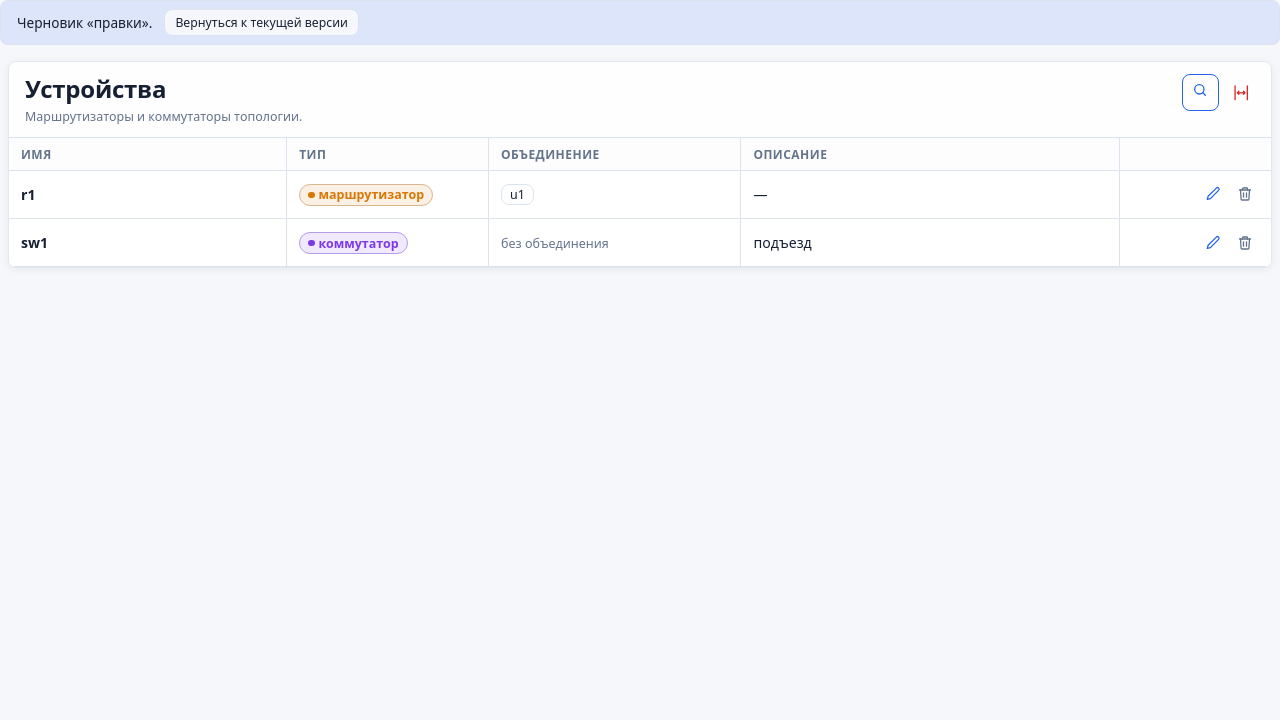
Scenario: DevicesPage › saves a rename as a single operation when the union is unchanged
The width and height of the screenshot is (1280, 720).
Expected: the text "r1" is shown, [9,170,287,218]
Click the button titled "Изменить устройство r1" at (1213, 194), box [1199,180,1227,208]
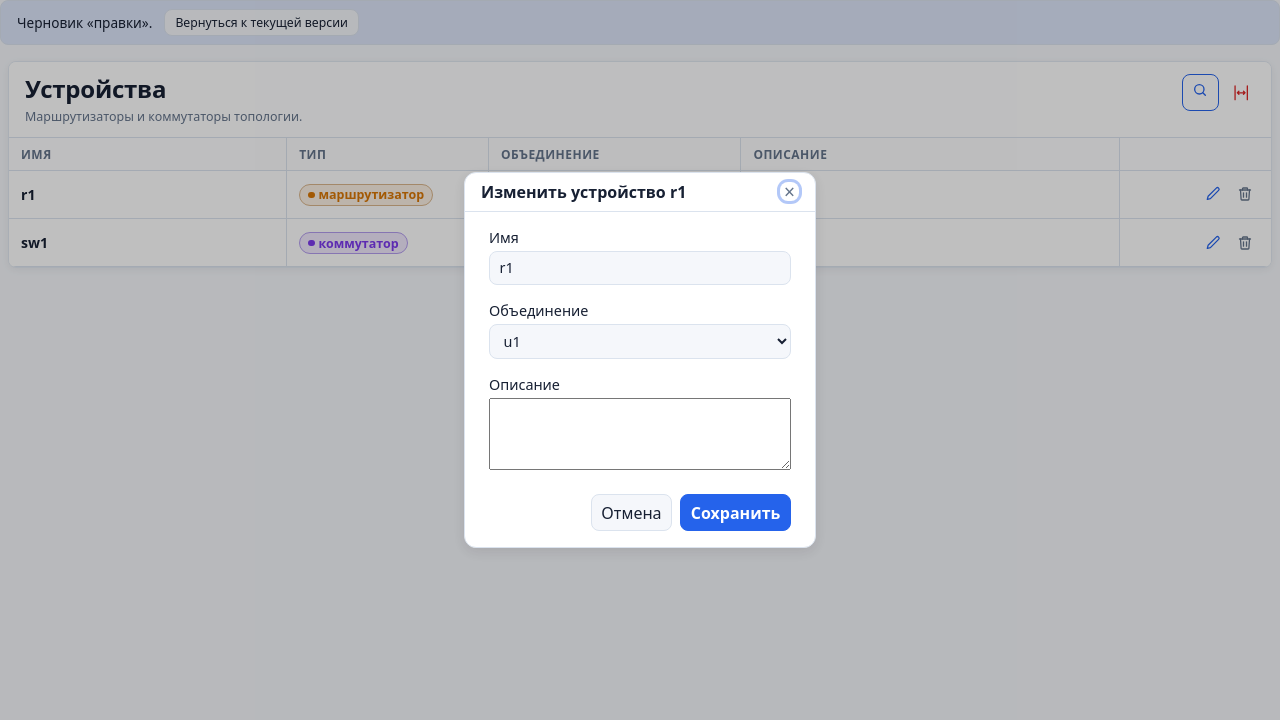
Clear the field labelled "Имя" at (640, 268), box [489,251,791,285]
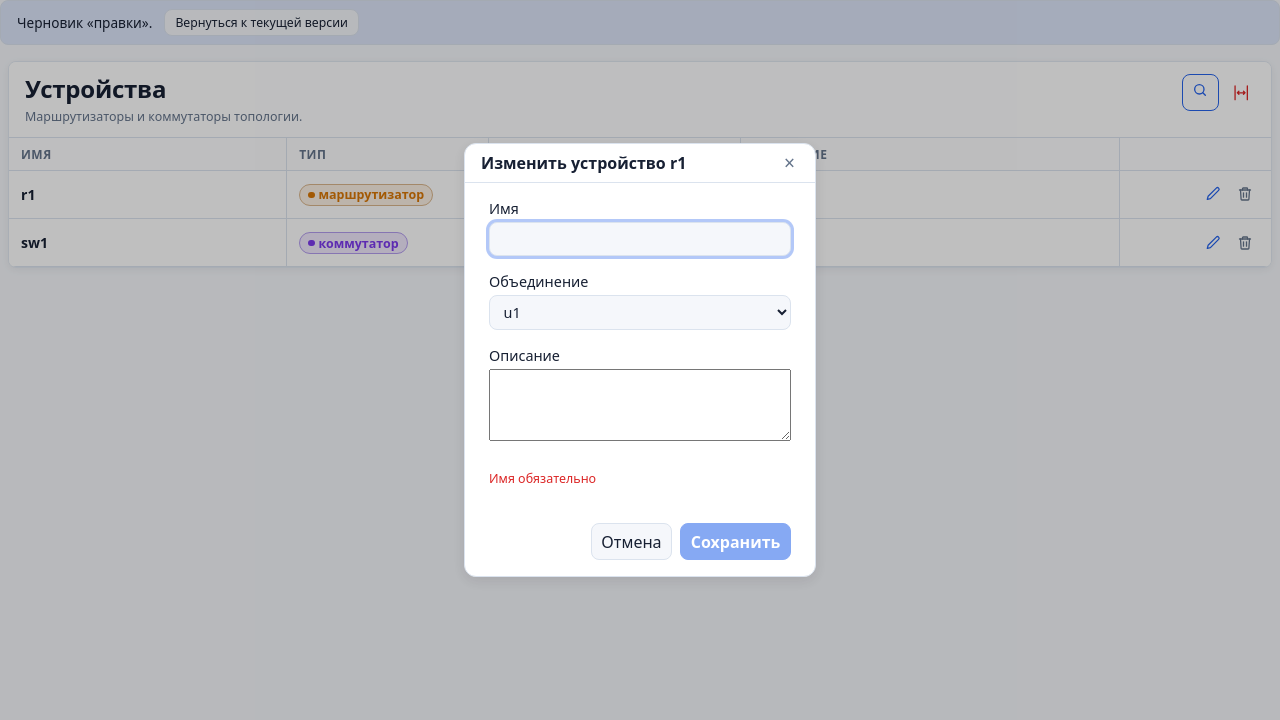
Type "r1b" into the field labelled "Имя" at (640, 239), box [489,222,791,256]
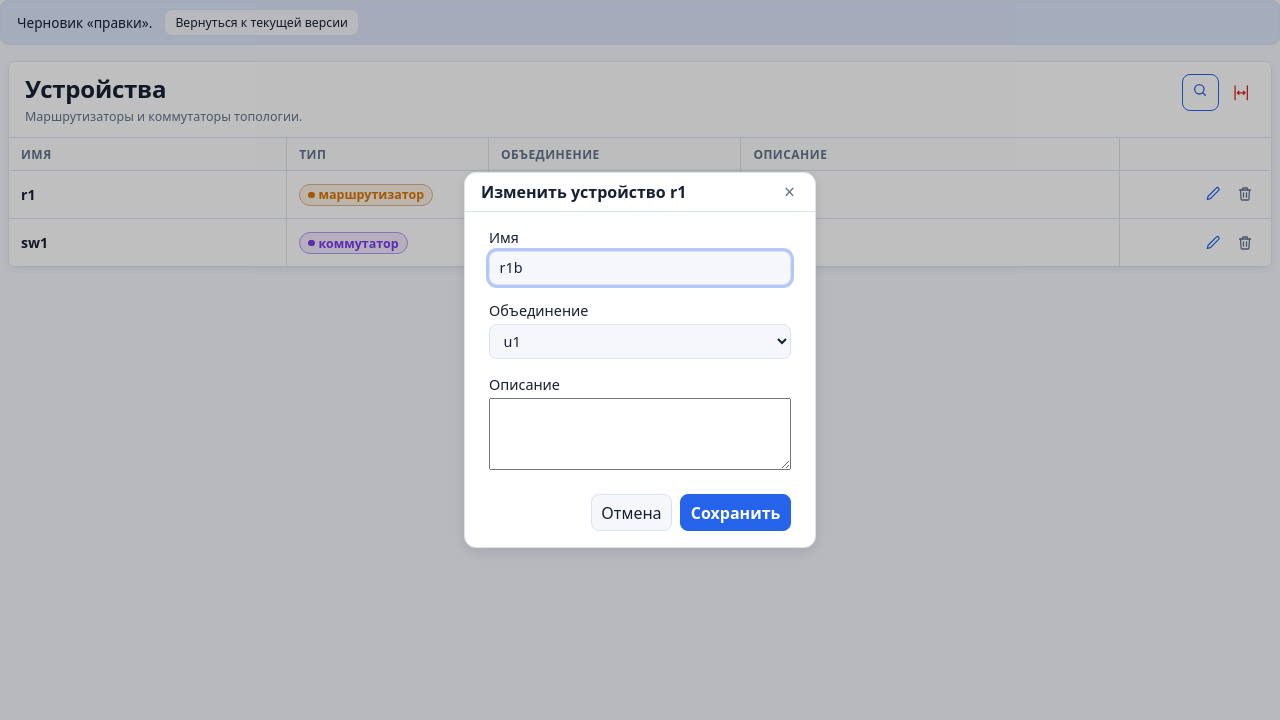
Click the button "Сохранить" at (736, 513), box [680,494,791,531]
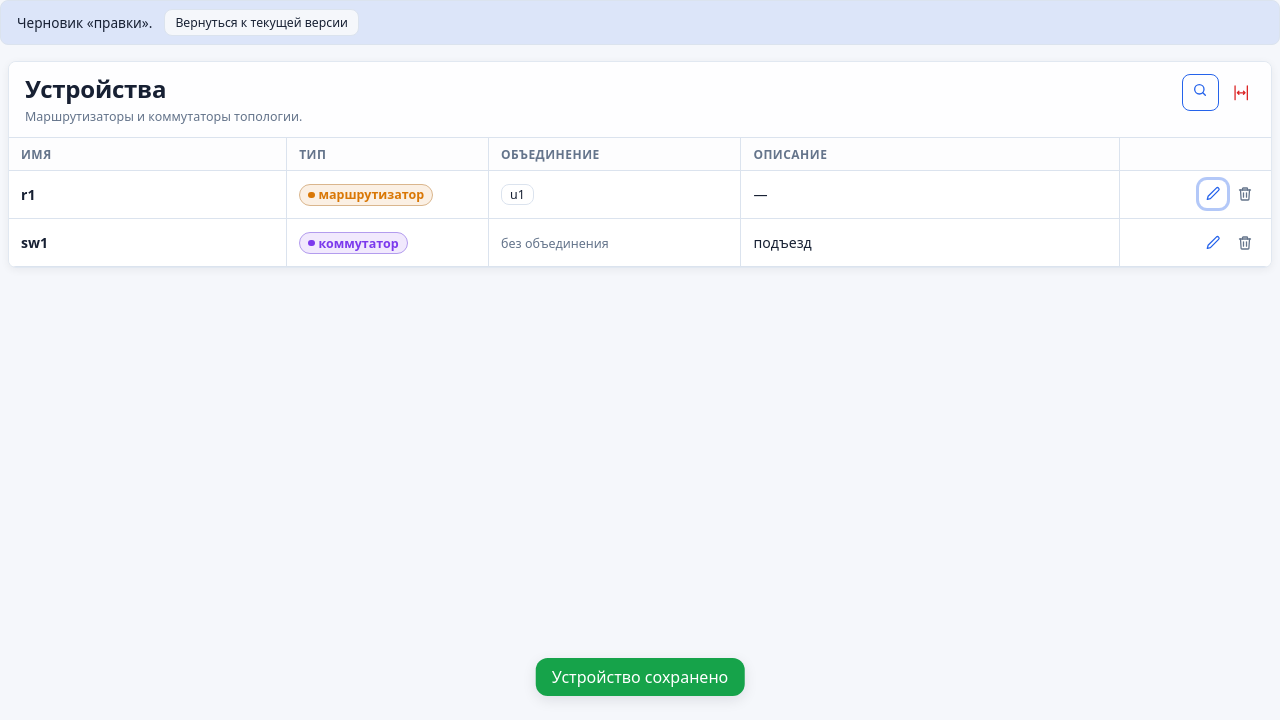
Expected: the text "Устройство сохранено" is shown, [536,658,744,696]
